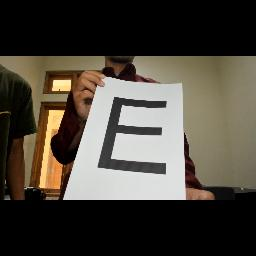e: (96, 92, 172, 180)
